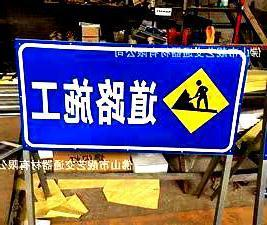sign: (16, 42, 243, 151)
